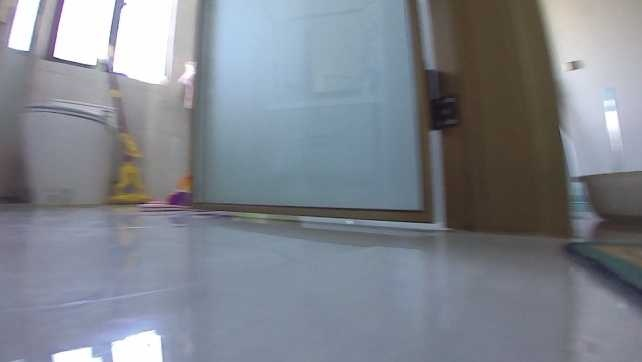door_anno_part: (188, 0, 570, 233)
toilet: (18, 95, 123, 208)
